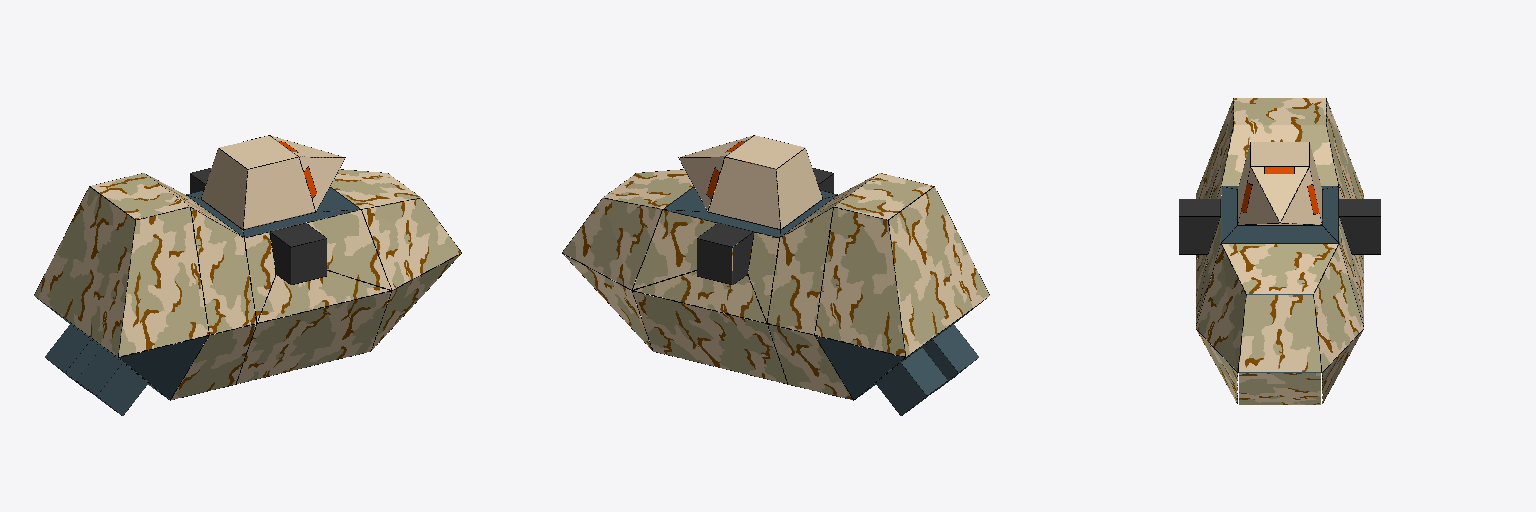
The picture shows the model from 3 angles: view 1: azimuth 30°, elevation 25°; view 2: azimuth 150°, elevation 25°; view 3: azimuth 270°, elevation 25°; orthographic projection.
Visible parts, largest first — view 1: Body, Booster; view 2: Body, Booster; view 3: Body.
Part boxes in pixels (x1,y1,x2,y2): Body: (34, 135, 461, 400); Booster: (45, 324, 148, 415); Body: (562, 135, 989, 400); Booster: (875, 324, 978, 415); Body: (1179, 98, 1380, 404).
Bounding box in the file's own units: 5.07 × 2.7 × 2.4.
Materials: 2 (2 with a texture image).